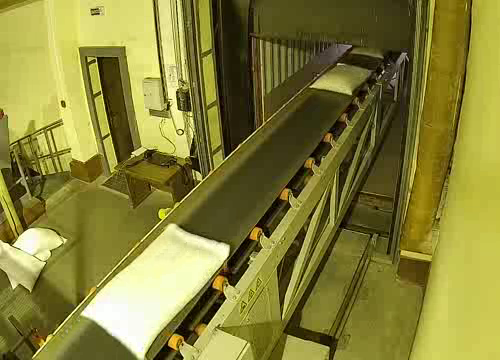bag: (79, 222, 231, 360), (310, 61, 372, 99), (348, 46, 388, 59)
